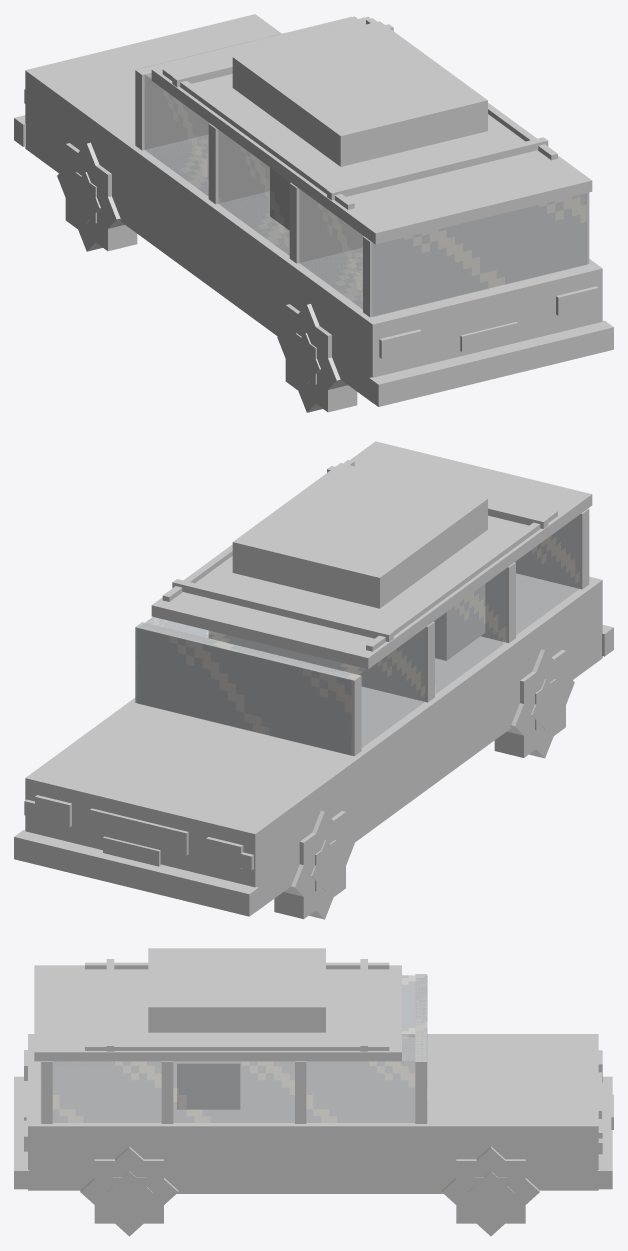
File: car_c_police_navy.glb
The picture shows the model from 3 angles, top to bottom: view 1: azimuth 30°, elevation 25°; view 2: azimuth 150°, elevation 25°; view 3: azimuth 270°, elevation 25°; orthographic projection. The views are drawn at different scales.
Parts seen in each view (by area): view 1: gas_station_town; view 2: gas_station_town; view 3: gas_station_town.
Part boxes in pixels (x1,y1,x2,y2): gas_station_town: (14,14,613,412); gas_station_town: (14,441,613,919); gas_station_town: (14,948,613,1236).
Size of the model in its own units: 1.8 by 1.84 by 4.73.
Materials: 2 (1 with a texture image).
